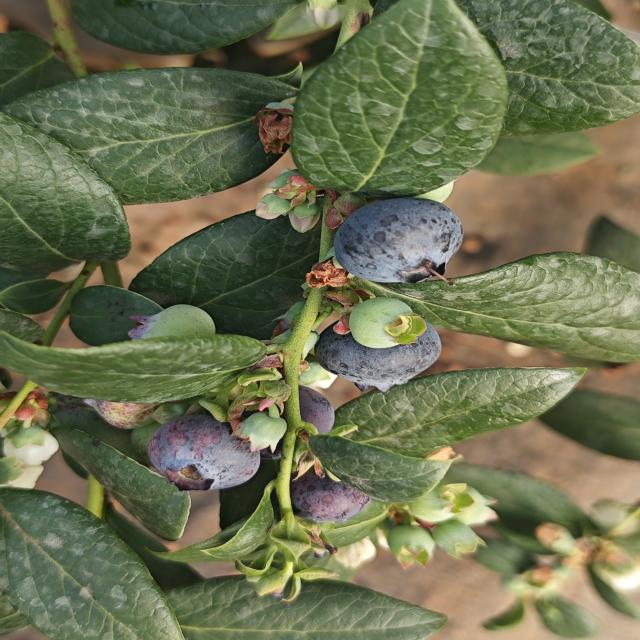ripe: (330, 195, 466, 287), (308, 310, 452, 394), (145, 412, 263, 493), (287, 471, 373, 526), (269, 382, 340, 442)
